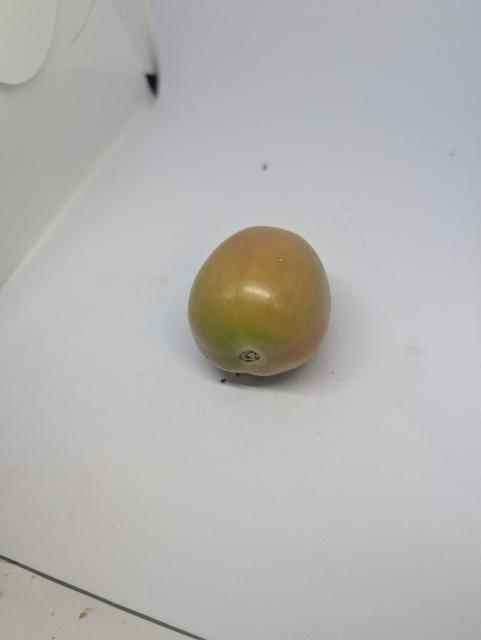breaker: (188, 226, 331, 376)
